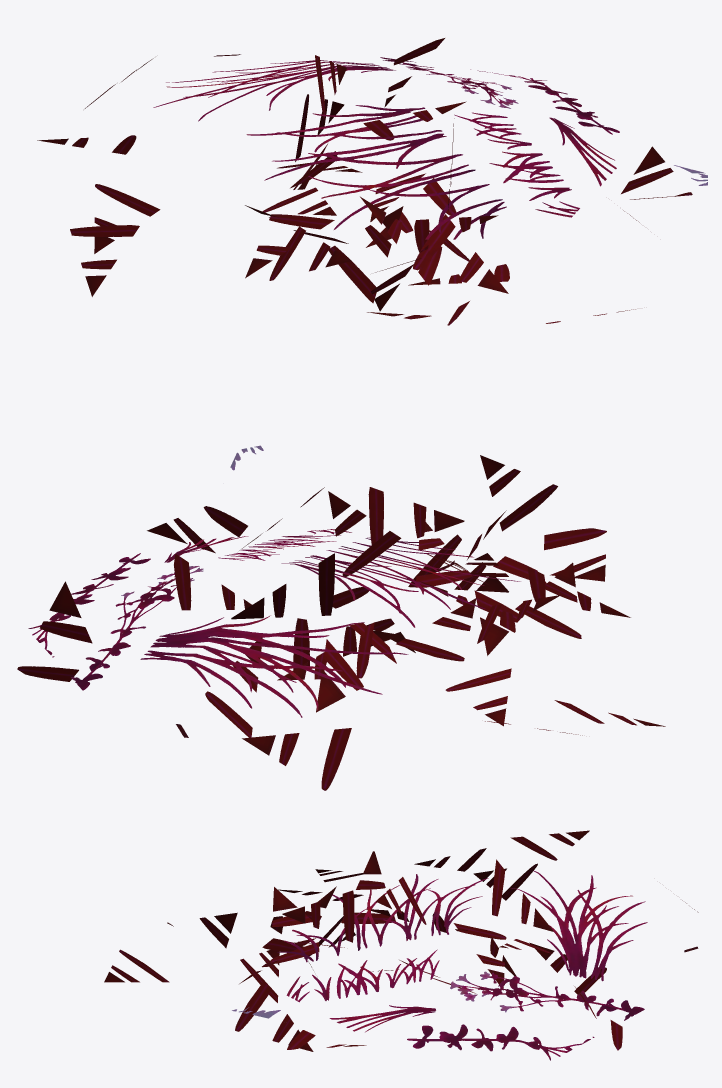
3 views of the same model, one above another, from view 1: azimuth 30°, elevation 25°; view 2: azimuth 150°, elevation 25°; view 3: azimuth 270°, elevation 25° (orthographic). The views are drawn at different scales.
Parts seen in each view (by area): view 1: SM_GF_LongSeededGrass_02_LOD0; view 2: SM_GF_LongSeededGrass_02_LOD0; view 3: SM_GF_LongSeededGrass_02_LOD0.
Boxes of the visible parts, x1,y1,x2,y2 form: SM_GF_LongSeededGrass_02_LOD0: (37,38,707,325); SM_GF_LongSeededGrass_02_LOD0: (17,445,665,790); SM_GF_LongSeededGrass_02_LOD0: (104,830,698,1060).
Bounding box in the file's own units: 1.13 × 0.3177 × 1.44.
